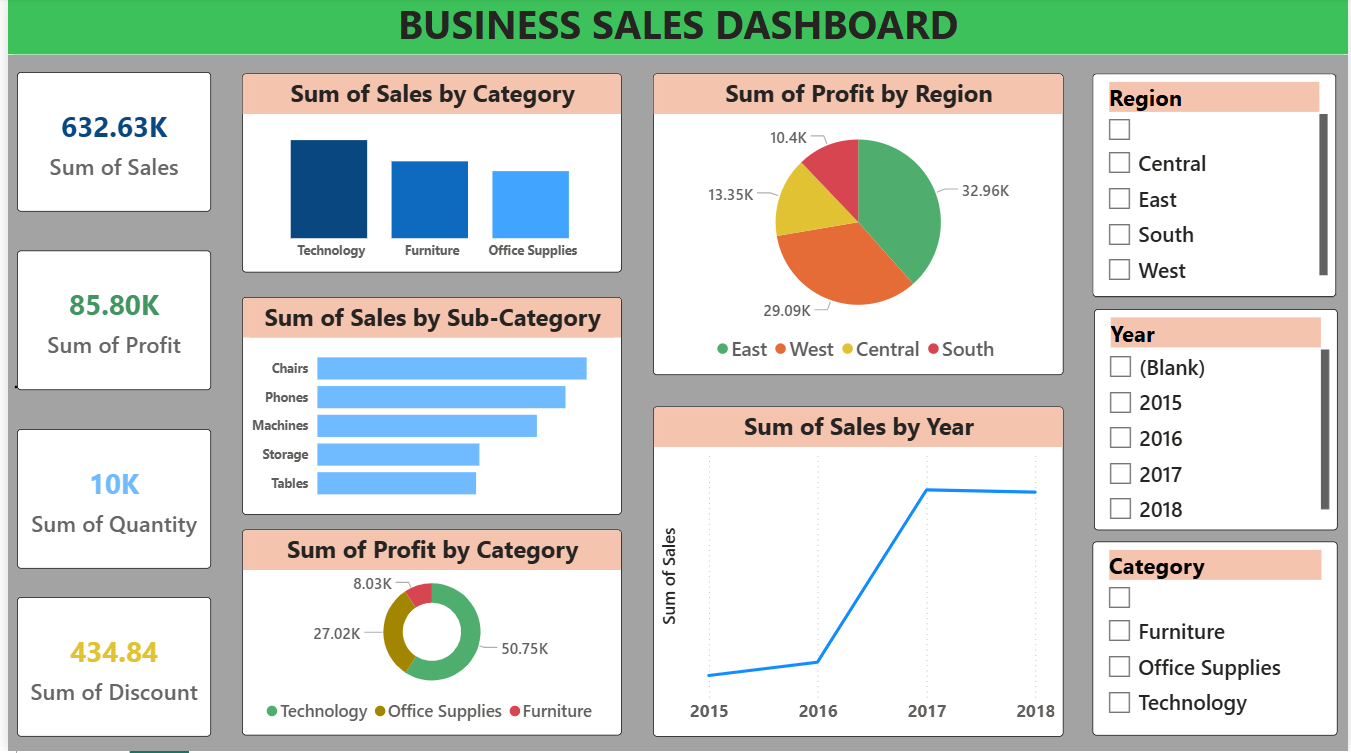

What the dashboard file says about the page in this screenshot:
{"tool":"powerbi","page":{"name":"Page 1","canvas":[1280,720],"ordinal":0},"visuals":[{"type":"card","fields":{"Values":["Sum(superstore.Sales)"]},"box":[8.1,71.6,185.4,133.4],"z":0},{"type":"clusteredBarChart","fields":{"Category":["superstore.Sub-Category"],"Y":["Sum(superstore.Sales)"]},"box":[222.8,286.3,362.7,208.2],"z":1},{"type":"columnChart","fields":{"Category":["superstore.Category"],"Y":["Sum(superstore.Sales)"]},"box":[222.8,73.2,362.7,190.3],"z":2},{"type":"lineChart","fields":{"Category":["superstore.Order Date.Variation.Date Hierarchy.Year"],"Y":["Sum(superstore.Sales)"]},"box":[616.5,390.4,392,315.5],"z":3},{"type":"pieChart","fields":{"Category":["superstore.Region"],"Y":["Sum(superstore.Profit)"]},"box":[616.5,73.2,392,287.9],"z":4},{"type":"donutChart","fields":{"Category":["superstore.Category"],"Y":["Sum(superstore.Profit)"]},"box":[222.8,509.1,362.7,196.8],"z":5},{"type":"card","fields":{"Values":["Sum(superstore.Profit)"]},"box":[8.1,242.4,185.4,133.4],"z":6},{"type":"card","fields":{"Values":["Sum(superstore.Quantity)"]},"box":[8.1,413.1,185.4,133.4],"z":7},{"type":"slicer","fields":{"Values":["superstore.Order Date.Variation.Date Hierarchy.Year"]},"box":[1037.7,297.7,232.6,211.5],"z":8},{"type":"slicer","fields":{"Values":["superstore.Region"]},"box":[1036.1,73.2,232.6,213.1],"z":9},{"type":"slicer","fields":{"Values":["superstore.Category"]},"box":[1036.1,520.5,234.2,185.4],"z":10},{"type":"textbox","title":"BUSINESS SALES DASHBOARD","box":[0,0,1280.1,55.3],"z":12},{"type":"card","fields":{"Values":["Sum(superstore.Discount)"]},"box":[8.1,572.5,185.4,133.4],"z":13}]}

Visuals, with their boxes in screenshot pixels (x1, y1, x2, y2), scaled from the page's 1280x720 canvas onto the 1351x753 screenshot:
card - Sum(superstore.Sales): (9,75,204,214)
clusteredBarChart - superstore.Sub-Category x Sum(superstore.Sales): (235,299,618,517)
columnChart - superstore.Category x Sum(superstore.Sales): (235,77,618,276)
lineChart - superstore.Order Date.Variation.Date Hierarchy.Year x Sum(superstore.Sales): (651,408,1064,738)
pieChart - superstore.Region x Sum(superstore.Profit): (651,77,1064,378)
donutChart - superstore.Category x Sum(superstore.Profit): (235,532,618,738)
card - Sum(superstore.Profit): (9,254,204,393)
card - Sum(superstore.Quantity): (9,432,204,572)
slicer - superstore.Order Date.Variation.Date Hierarchy.Year: (1095,311,1341,533)
slicer - superstore.Region: (1094,77,1339,299)
slicer - superstore.Category: (1094,544,1341,738)
"BUSINESS SALES DASHBOARD" textbox: (0,0,1350,58)
card - Sum(superstore.Discount): (9,599,204,738)
